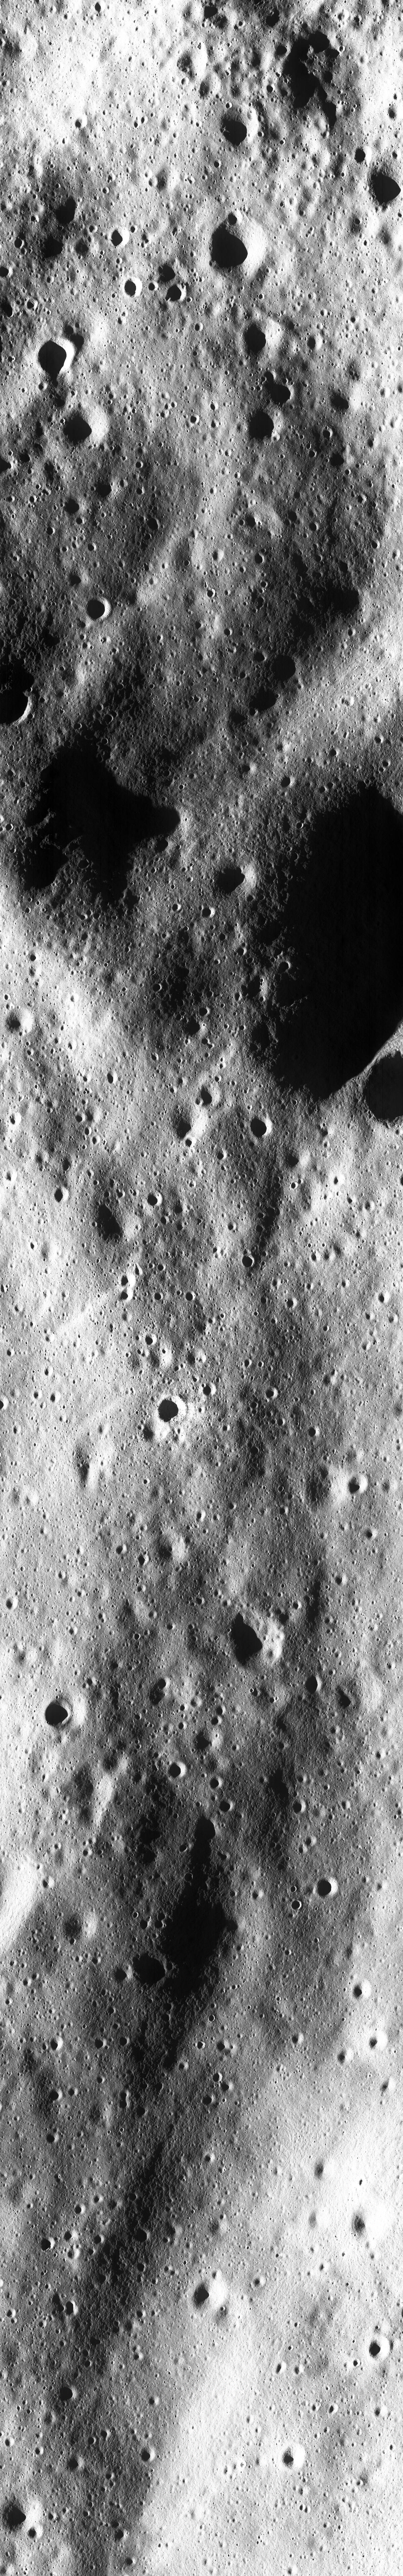boulder: (229, 1607, 287, 1672), (4, 2497, 43, 2532), (172, 1105, 208, 1140), (351, 2205, 380, 2242), (66, 1910, 98, 1940), (194, 2280, 224, 2309), (142, 1420, 170, 1444), (197, 1725, 221, 1753), (5, 1009, 32, 1033), (149, 1347, 174, 1372), (74, 237, 101, 259), (283, 2446, 306, 2471), (348, 1476, 367, 1495), (67, 2454, 86, 2473), (370, 2034, 386, 2051), (354, 1983, 369, 1998), (1, 264, 15, 280), (201, 1384, 219, 1398), (338, 2050, 352, 2066), (62, 2230, 79, 2243), (148, 2395, 160, 2407)
crater: (201, 209, 271, 288), (59, 404, 107, 447), (237, 319, 283, 361), (34, 335, 72, 383), (216, 107, 258, 150), (210, 861, 257, 896), (243, 403, 280, 444), (130, 1953, 166, 1986), (41, 1696, 75, 1730), (154, 1397, 186, 1424), (261, 380, 296, 405), (366, 2336, 394, 2362), (91, 477, 121, 502), (245, 1111, 271, 1139), (84, 597, 112, 621), (120, 276, 144, 300), (313, 1877, 338, 1900), (180, 1018, 204, 1036), (166, 283, 186, 303), (61, 496, 83, 514), (355, 144, 373, 164), (108, 228, 125, 247), (51, 1187, 70, 1204), (168, 1761, 185, 1779), (145, 1191, 163, 1207), (57, 2385, 75, 2401), (217, 1798, 235, 1812), (208, 1775, 225, 1791), (198, 905, 217, 918), (262, 1387, 279, 1402), (280, 774, 296, 788), (93, 0, 107, 14), (48, 2088, 63, 2102), (144, 1332, 158, 1346), (212, 2071, 225, 2084), (94, 2037, 107, 2050), (241, 1255, 254, 1268), (253, 552, 265, 565), (306, 1427, 320, 1438), (184, 1290, 197, 1302), (329, 745, 340, 758), (222, 627, 235, 637), (152, 1291, 165, 1301), (290, 1900, 302, 1910), (189, 414, 199, 425), (209, 401, 219, 411), (206, 588, 216, 598), (210, 419, 220, 430), (194, 321, 203, 332), (74, 1114, 83, 1123), (373, 734, 383, 742), (289, 1180, 297, 1189), (91, 1136, 99, 1145), (171, 902, 179, 909), (170, 400, 177, 407), (164, 405, 170, 410)
